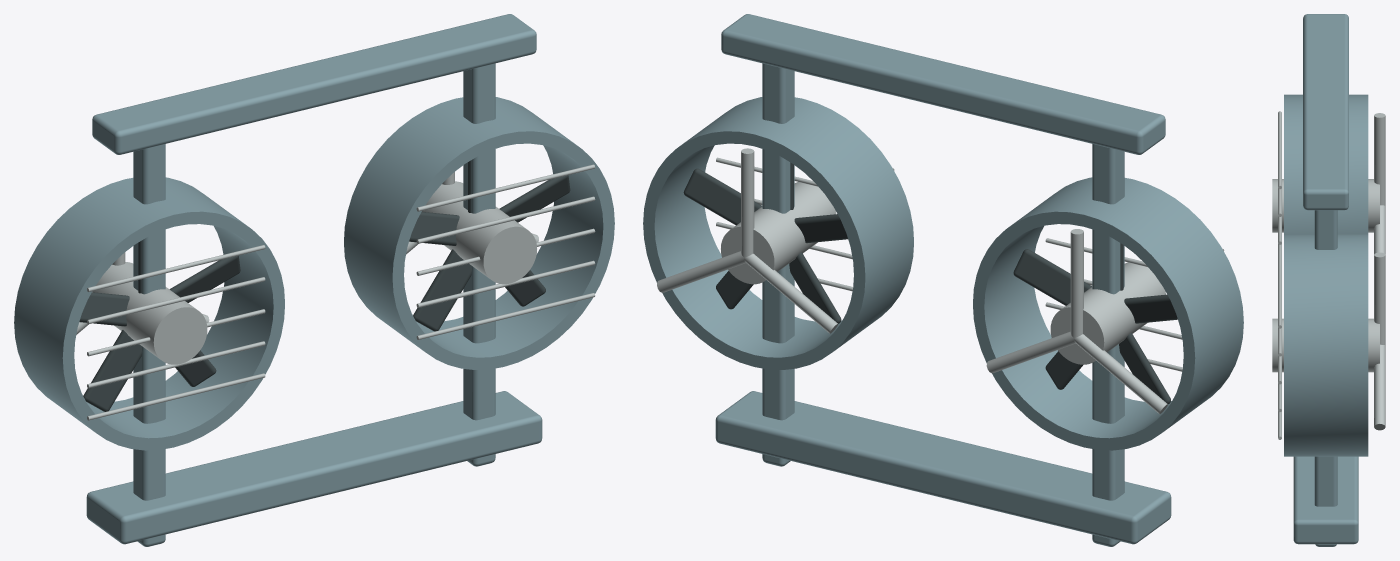
The model's file is abandoned-tidal-model-testing-hall-wind-fan-array-1448b698__32364.glb.
3 renders of one model, left to right at view 1: azimuth 30°, elevation 25°; view 2: azimuth 150°, elevation 25°; view 3: azimuth 270°, elevation 25°, orthographic. The views are drawn at different scales.
Parts seen in each view (by area): view 1: wind-fan-array; view 2: wind-fan-array; view 3: wind-fan-array.
Boxes of the visible parts, box(x1,y1,x2,y2) form: wind-fan-array: box(14, 14, 614, 546); wind-fan-array: box(643, 14, 1243, 546); wind-fan-array: box(1272, 14, 1385, 546).
Size of the model in its own units: 1.44 by 1.07 by 0.2949.
